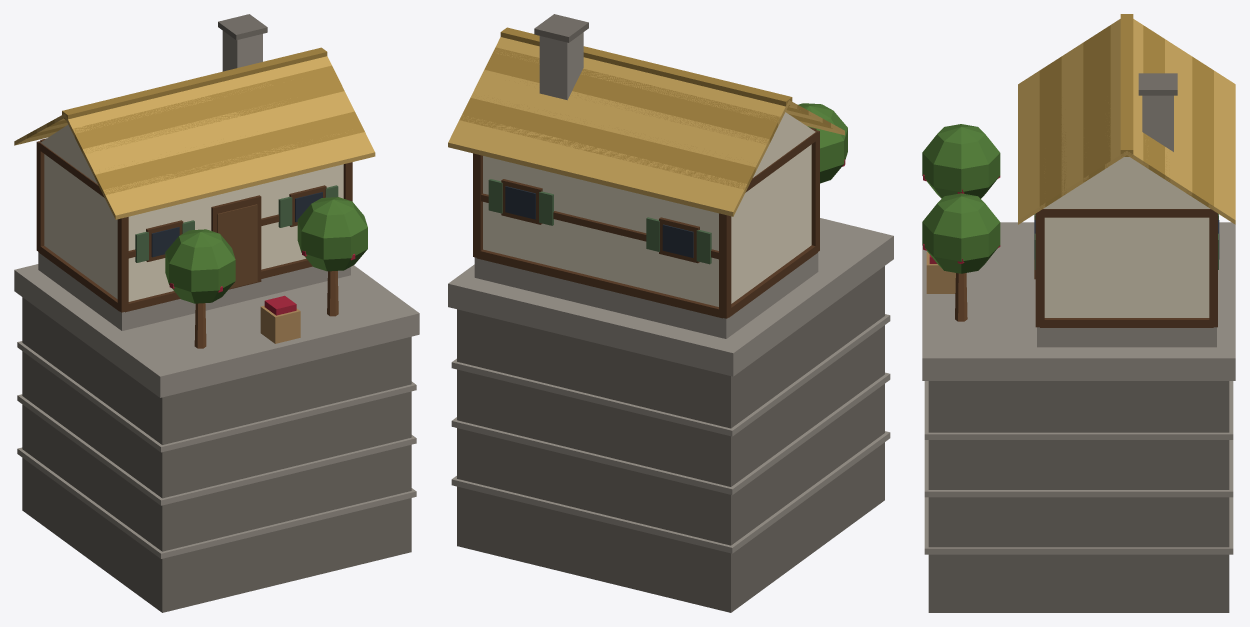
The model's file is orchard.glb.
The picture shows the model from 3 angles, left to right: view 1: azimuth 30°, elevation 25°; view 2: azimuth 150°, elevation 25°; view 3: azimuth 270°, elevation 25°; orthographic projection. The views are drawn at different scales.
Visible parts, largest first — view 1: orchard; view 2: orchard; view 3: orchard.
Part boxes in pixels (box(x1,y1,x2,y2)): orchard: box(14, 14, 419, 612); orchard: box(448, 14, 893, 612); orchard: box(922, 14, 1235, 612).
Size of the model in its own units: 5.1 by 8.72 by 4.97.
